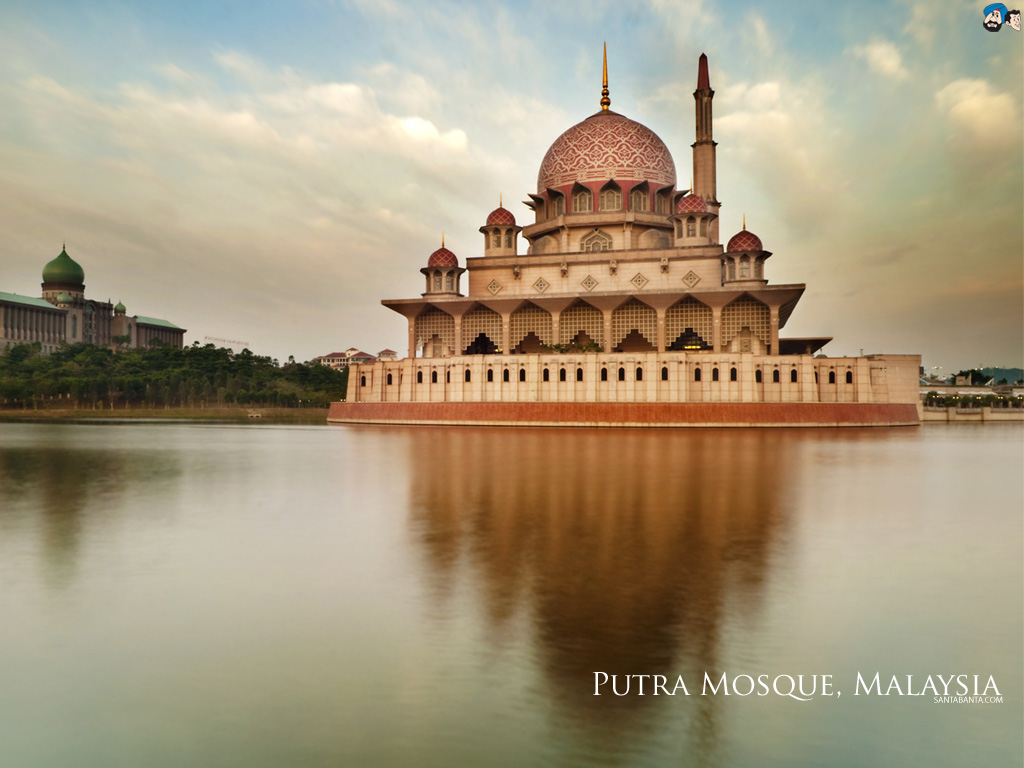Mosque: (366, 42, 887, 439)
